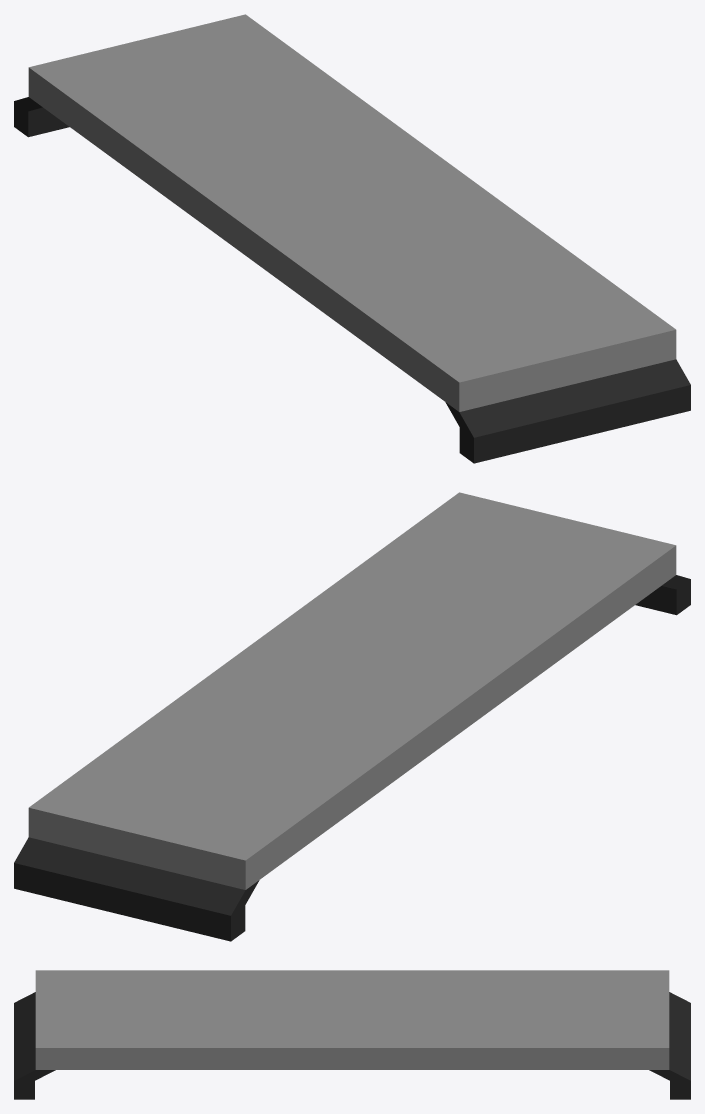
The model's file is AerobicStep.fbx.
The picture shows the model from 3 angles, top to bottom: view 1: azimuth 30°, elevation 25°; view 2: azimuth 150°, elevation 25°; view 3: azimuth 270°, elevation 25°; orthographic projection. The views are drawn at different scales.
Visible parts, largest first — view 1: AerobicStep; view 2: AerobicStep; view 3: AerobicStep.
Boxes of the visible parts, left/top/right/bottom form: AerobicStep: left=14, top=14, right=690, bottom=463; AerobicStep: left=14, top=492, right=690, bottom=941; AerobicStep: left=14, top=970, right=690, bottom=1099.
Size of the model in its own units: 34.75 by 10.76 by 128.
